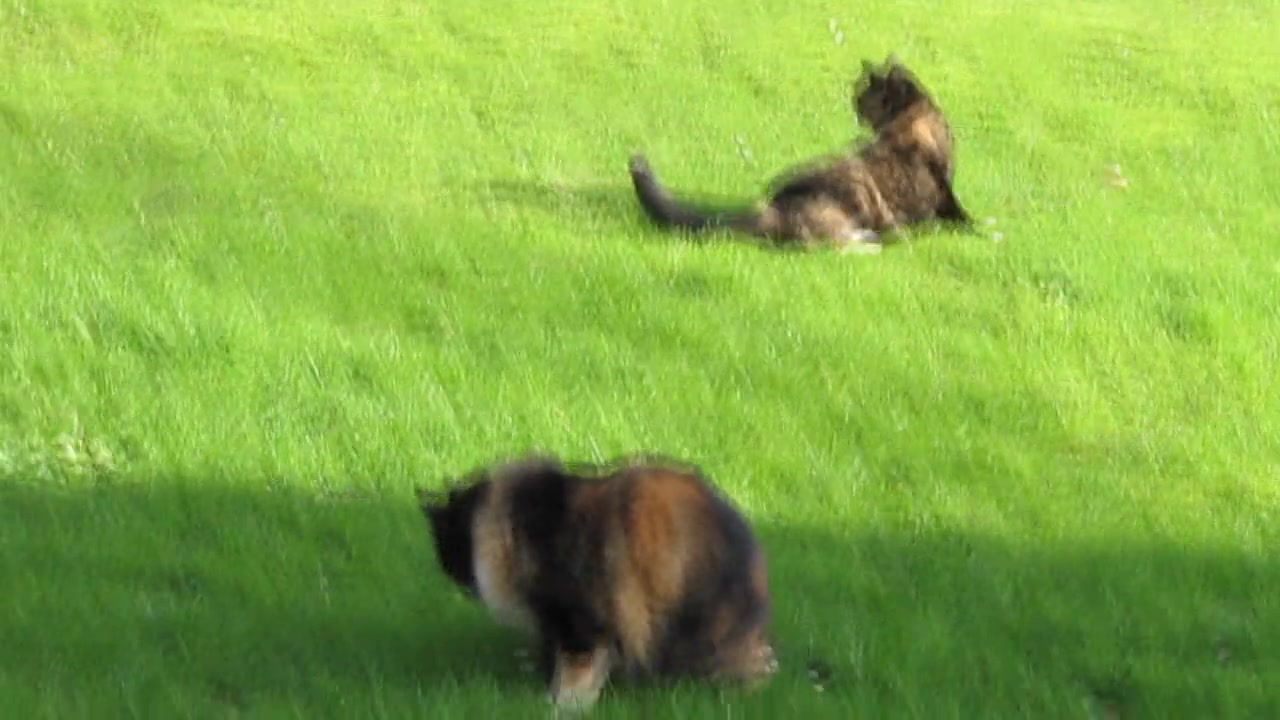cat: (626, 53, 980, 253)
